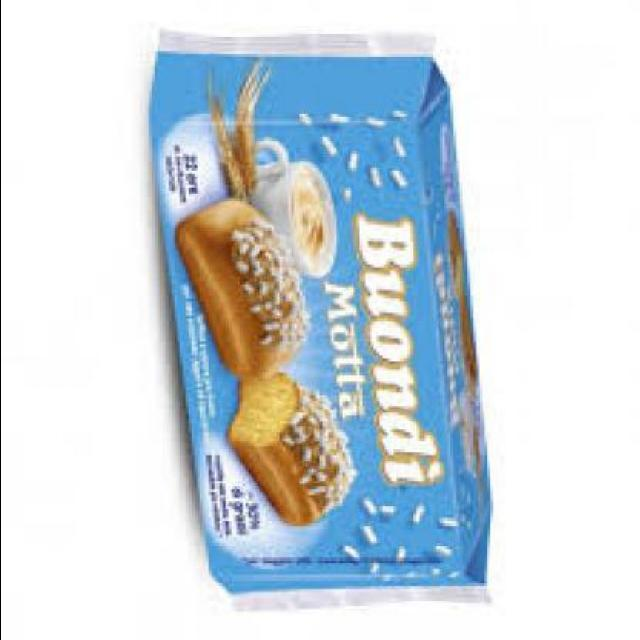Merendine: (148, 17, 492, 626)
